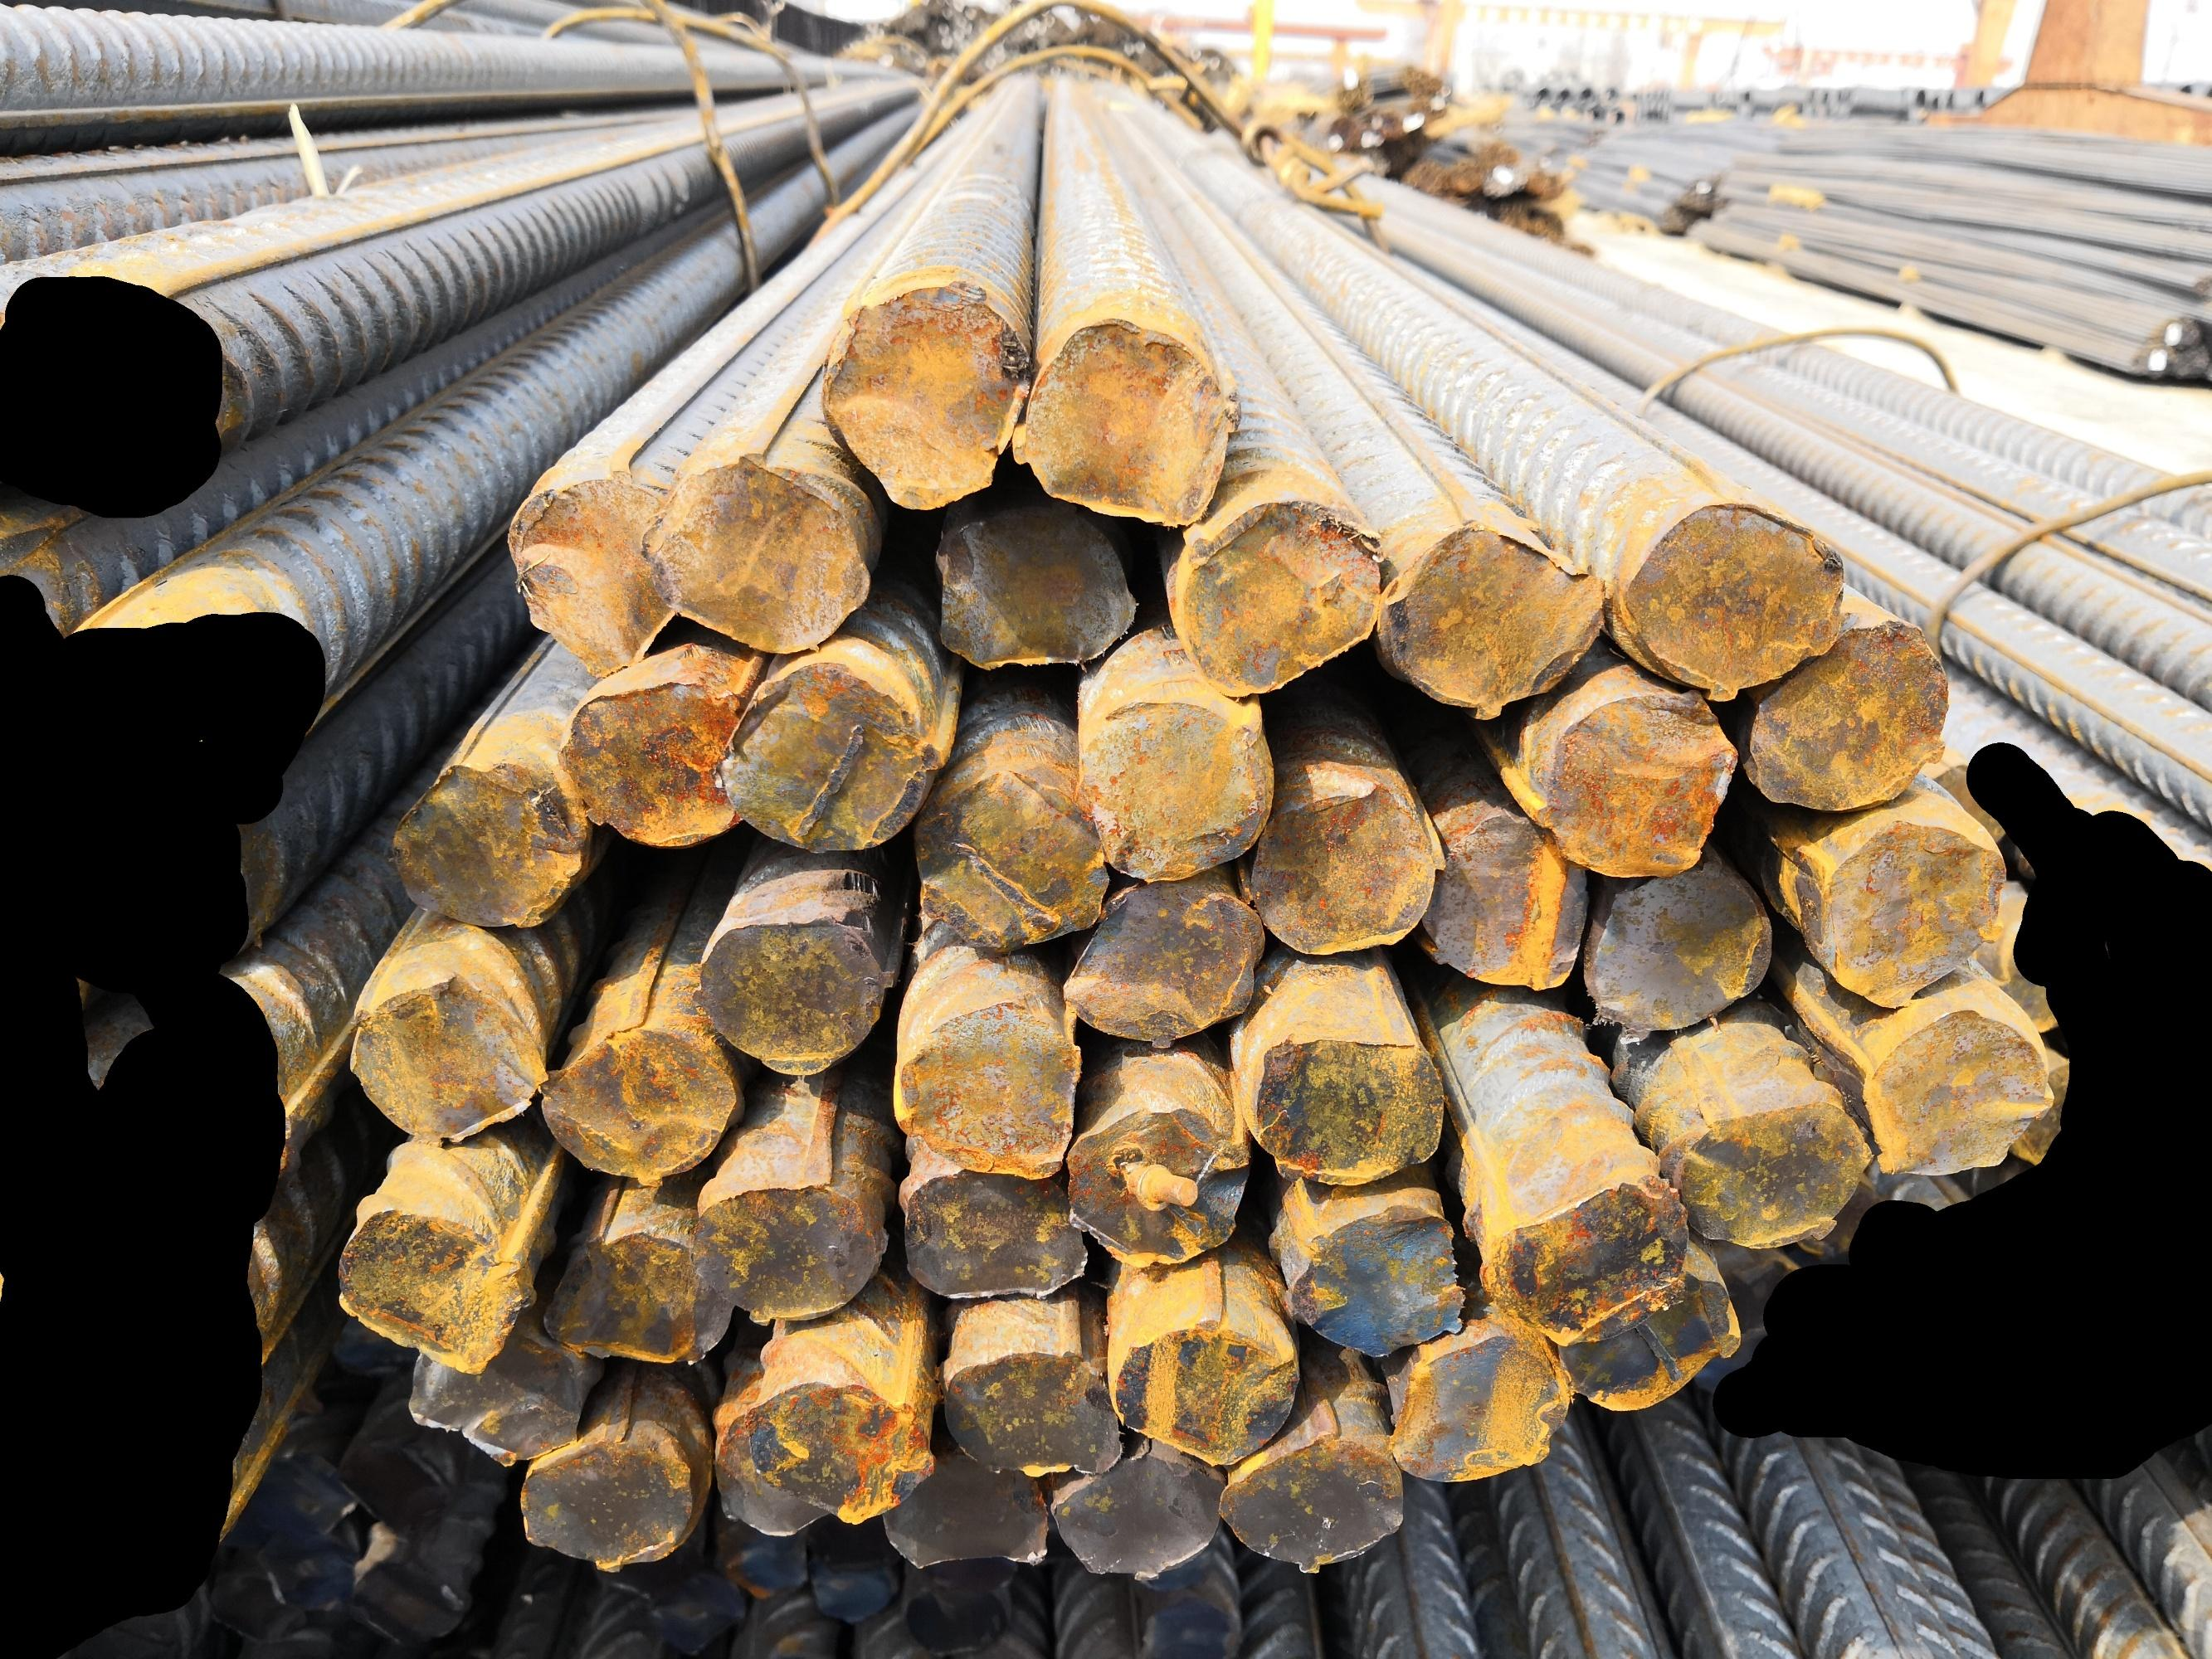bar: (818, 279, 1037, 518), (1009, 310, 1245, 532), (1612, 493, 1848, 708), (1372, 514, 1609, 720), (648, 443, 873, 657), (716, 655, 952, 857), (1738, 606, 1952, 814), (1170, 497, 1386, 702), (1523, 683, 1743, 884), (502, 453, 690, 685), (1245, 755, 1450, 964), (906, 756, 1114, 953), (1809, 814, 2010, 1014), (1075, 695, 1279, 889), (927, 500, 1140, 676), (1058, 878, 1271, 1054), (1579, 849, 1780, 1035), (343, 969, 547, 1150), (328, 1199, 537, 1375), (1485, 1175, 1693, 1349), (537, 1012, 739, 1187), (695, 908, 896, 1082), (894, 995, 1081, 1180), (1863, 1004, 2059, 1178), (390, 760, 587, 932), (1245, 1028, 1452, 1190), (558, 676, 748, 852), (1062, 1101, 1252, 1276), (1422, 803, 1591, 997), (1668, 1096, 1872, 1251), (1279, 1195, 1469, 1359), (1105, 1310, 1299, 1469), (687, 1175, 885, 1326), (1384, 1331, 1569, 1490), (542, 1215, 734, 1366), (1555, 1263, 1745, 1415), (746, 1373, 938, 1523), (399, 1324, 594, 1464), (1211, 1434, 1408, 1572), (938, 1338, 1128, 1480), (1048, 1439, 1225, 1589), (516, 1431, 699, 1575), (899, 1166, 1091, 1302), (866, 1452, 1055, 1574), (708, 1406, 831, 1540)
